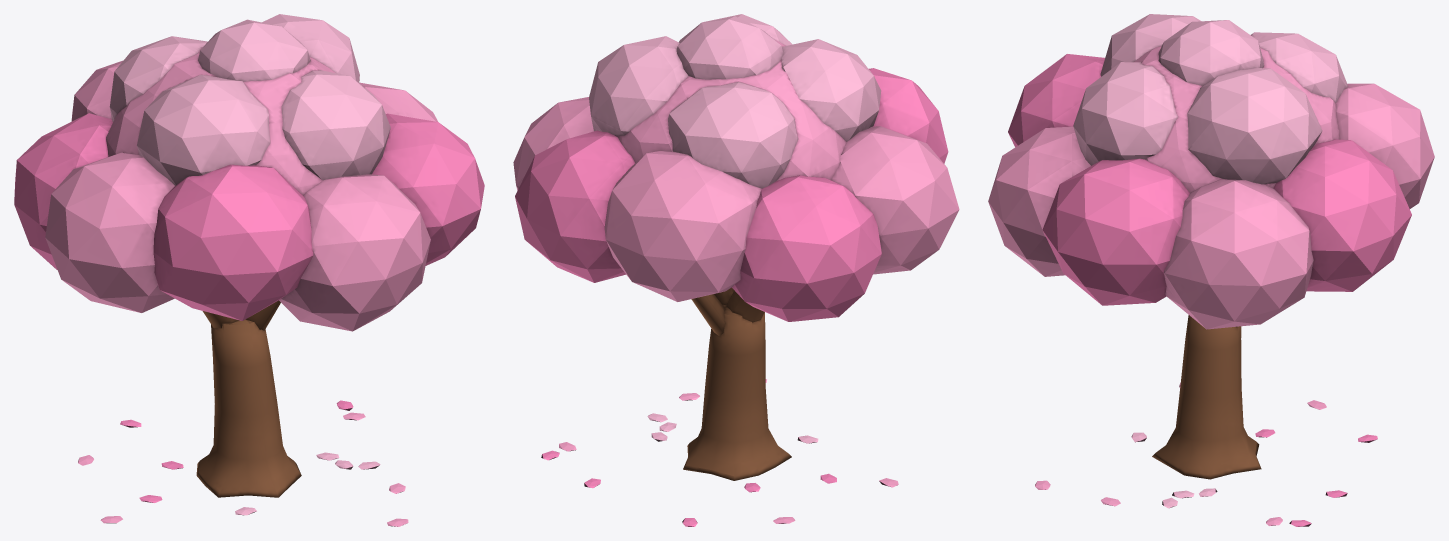
The model's file is tree_blossom.glb.
3 views of the same model, side by side, from view 1: azimuth 30°, elevation 25°; view 2: azimuth 150°, elevation 25°; view 3: azimuth 270°, elevation 25° (orthographic). The views are drawn at different scales.
Visible parts, largest first — view 1: tree_blossom; view 2: tree_blossom; view 3: tree_blossom.
Boxes of the visible parts, x1,y1,x2,y2 form: tree_blossom: [14, 14, 484, 526]; tree_blossom: [513, 14, 959, 526]; tree_blossom: [988, 14, 1434, 526].
Bounding box in the file's own units: 3.58 × 3.79 × 3.5.
Materials: 4 (4 with a texture image).
